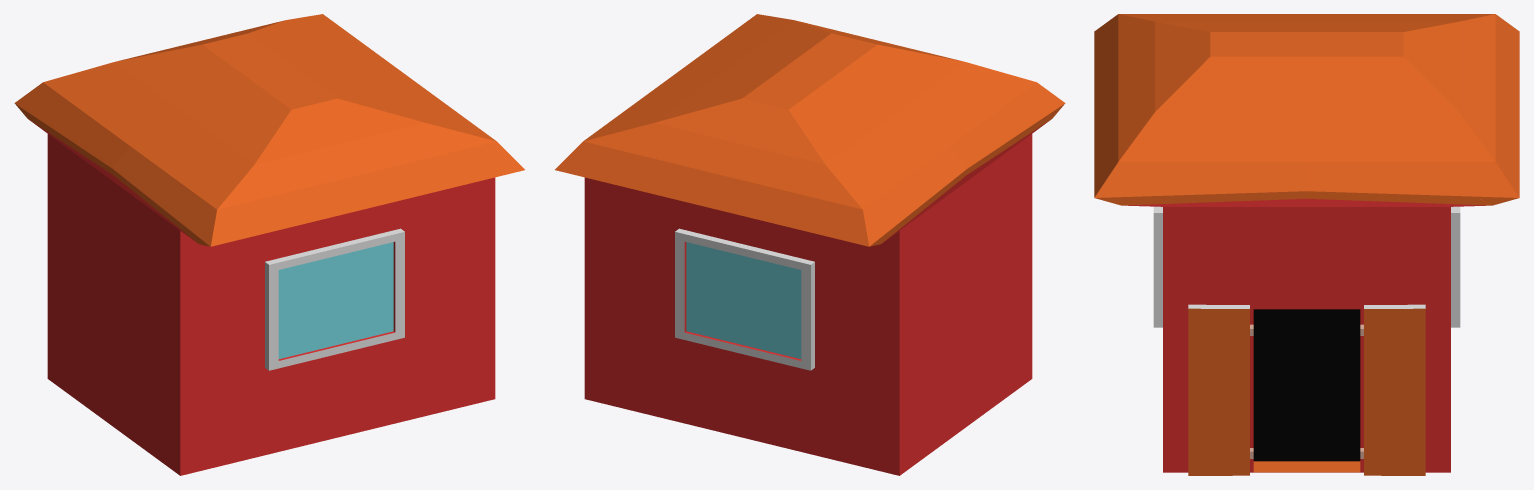
File: barn.fbx
The picture shows the model from 3 angles, left to right: view 1: azimuth 30°, elevation 25°; view 2: azimuth 150°, elevation 25°; view 3: azimuth 270°, elevation 25°; orthographic projection. The views are drawn at different scales.
Visible parts, largest first — view 1: Cube; view 2: Cube; view 3: Cube.
Part boxes in pixels (left/top/right/bottom): Cube: left=14, top=14, right=524, bottom=475; Cube: left=555, top=14, right=1065, bottom=475; Cube: left=1094, top=14, right=1519, bottom=475.
Size of the model in its own units: 1527 by 1431 by 1603.
